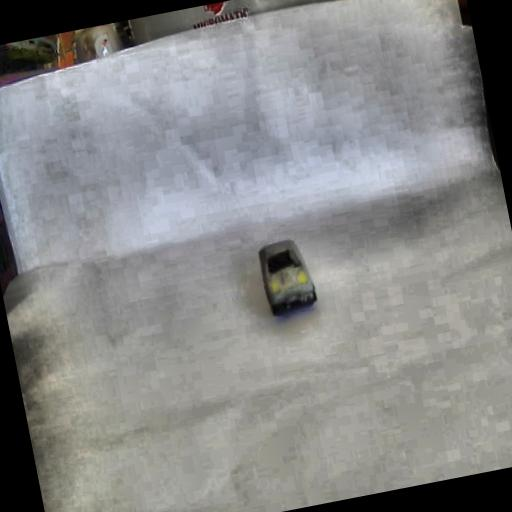normal_car: (254, 236, 321, 318)
